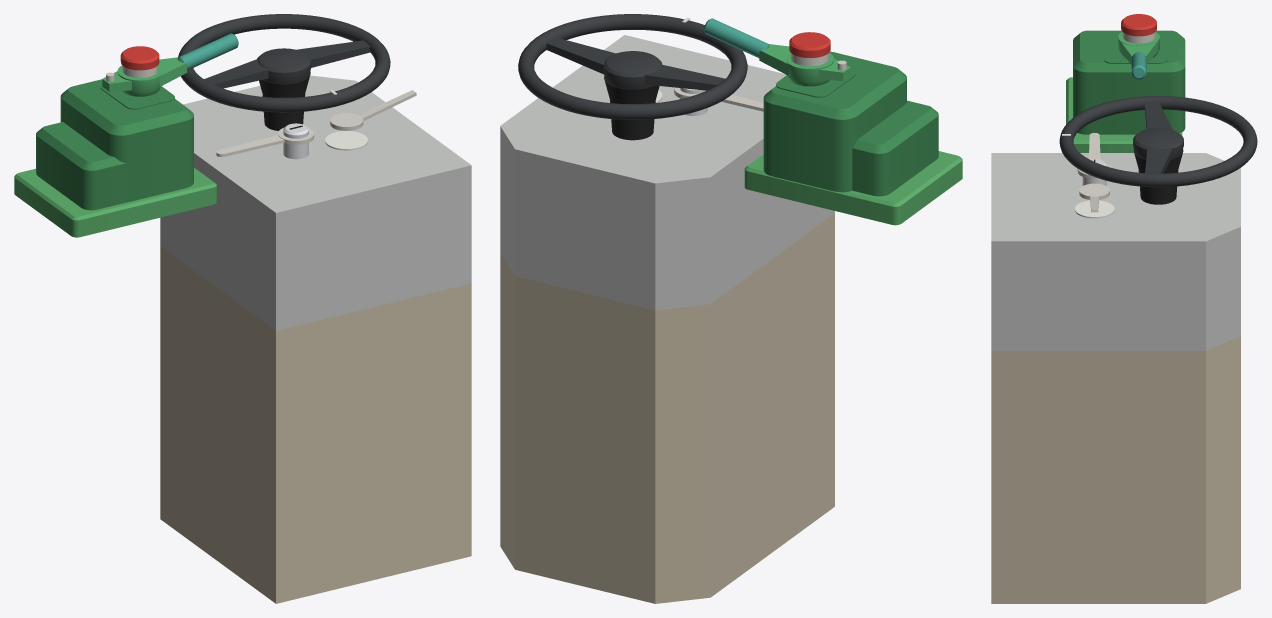
Rendered from eu07_desk_parts.fbx.
3 views of the same model, side by side, from view 1: azimuth 30°, elevation 25°; view 2: azimuth 150°, elevation 25°; view 3: azimuth 270°, elevation 25° (orthographic). The views are drawn at different scales.
Visible parts, largest first — view 1: Pedestal, BrakeValve, Wheel, BrakeHandle, WheelColumn, BrakeValveCap, FieldLever, ReverserKey, Boss, FieldSector; view 2: Pedestal, BrakeValve, Wheel, BrakeHandle, WheelColumn, BrakeValveCap; view 3: Pedestal, BrakeValve, Wheel, BrakeHandle, WheelColumn, BrakeValveCap, FieldLever, FieldSector, ReverserKey.
Part boxes in pixels (<box>): Pedestal: <box>160,75,471,603</box>; BrakeValve: <box>14,79,216,237</box>; Wheel: <box>178,14,390,112</box>; BrakeHandle: <box>102,33,238,96</box>; WheelColumn: <box>259,71,310,130</box>; BrakeValveCap: <box>120,46,159,77</box>; FieldLever: <box>330,90,416,130</box>; ReverserKey: <box>216,127,314,157</box>; Boss: <box>283,123,308,159</box>; FieldSector: <box>325,131,367,150</box>; Pedestal: <box>500,35,834,603</box>; BrakeValve: <box>744,51,962,225</box>; Wheel: <box>518,14,747,119</box>; BrakeHandle: <box>704,18,850,86</box>; WheelColumn: <box>604,76,659,140</box>; BrakeValveCap: <box>789,32,830,66</box>; Pedestal: <box>991,153,1240,603</box>; BrakeValve: <box>1066,30,1185,152</box>; Wheel: <box>1059,96,1257,187</box>; BrakeHandle: <box>1118,32,1159,79</box>; WheelColumn: <box>1133,149,1183,204</box>; BrakeValveCap: <box>1121,14,1156,43</box>; FieldLever: <box>1079,183,1109,212</box>; FieldSector: <box>1074,200,1114,218</box>; ReverserKey: <box>1077,133,1111,178</box>.
Size of the model in its own units: 0.7665 by 1.04 by 0.5335.
